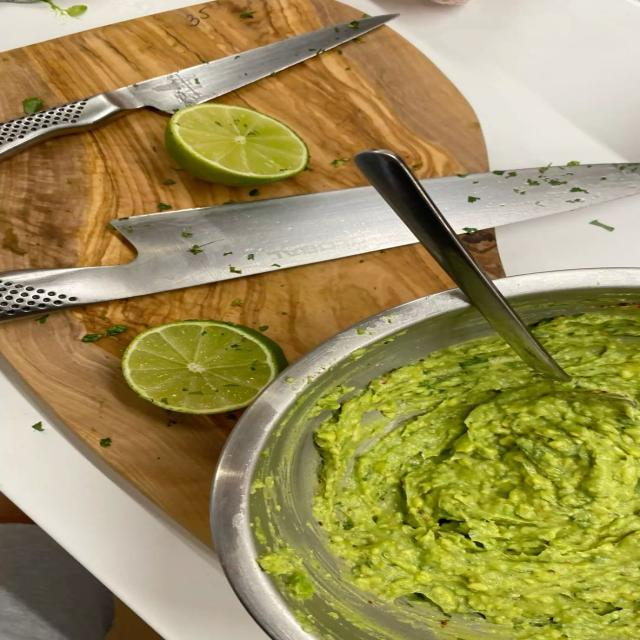avocado: (314, 310, 639, 640)
lemon: (122, 320, 287, 414), (165, 103, 309, 187)
